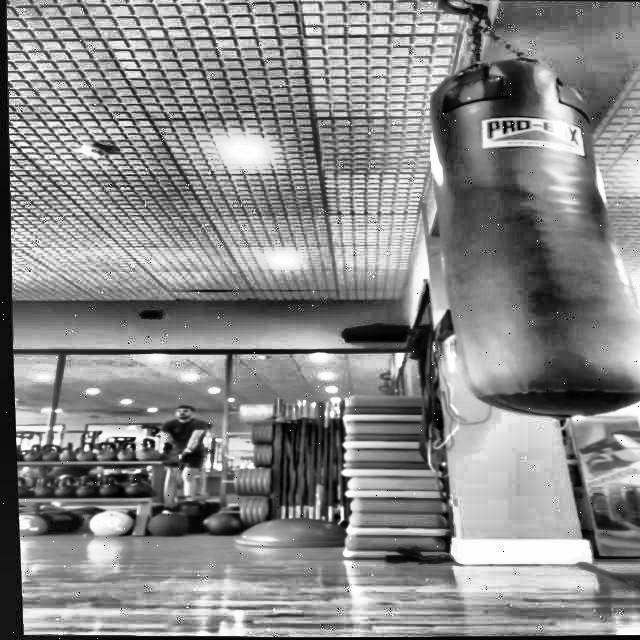boxing-bag: (425, 2, 640, 426)
